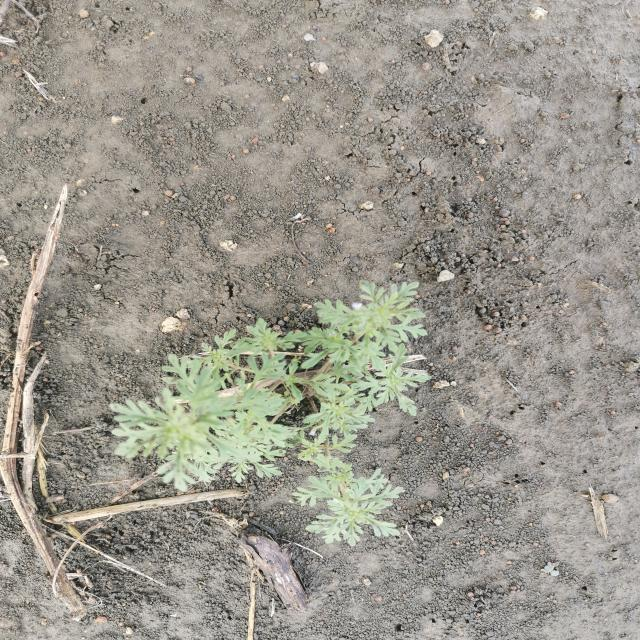Ragweed: (106, 277, 436, 549)
